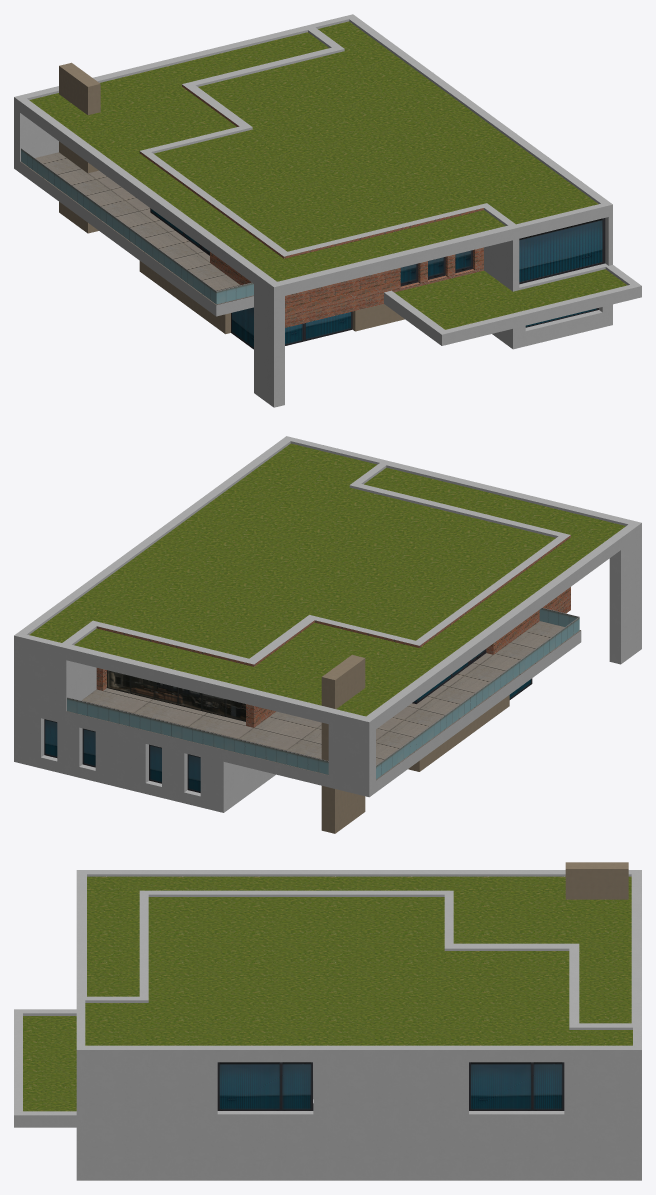
File: SM_DemoBuilding_1_B.fbx
3 views of the same model, one above another, from view 1: azimuth 30°, elevation 25°; view 2: azimuth 150°, elevation 25°; view 3: azimuth 270°, elevation 25° (orthographic). The views are drawn at different scales.
Visible parts, largest first — view 1: SM_DemoBuilding_1_B_LOD0; view 2: SM_DemoBuilding_1_B_LOD0; view 3: SM_DemoBuilding_1_B_LOD0.
Part boxes in pixels (bbox=[...]): SM_DemoBuilding_1_B_LOD0: bbox=[14, 14, 641, 407]; SM_DemoBuilding_1_B_LOD0: bbox=[14, 436, 641, 833]; SM_DemoBuilding_1_B_LOD0: bbox=[14, 862, 641, 1180].
Size of what is drawn, in the model's own units: 26.76 by 11.06 by 39.48.
